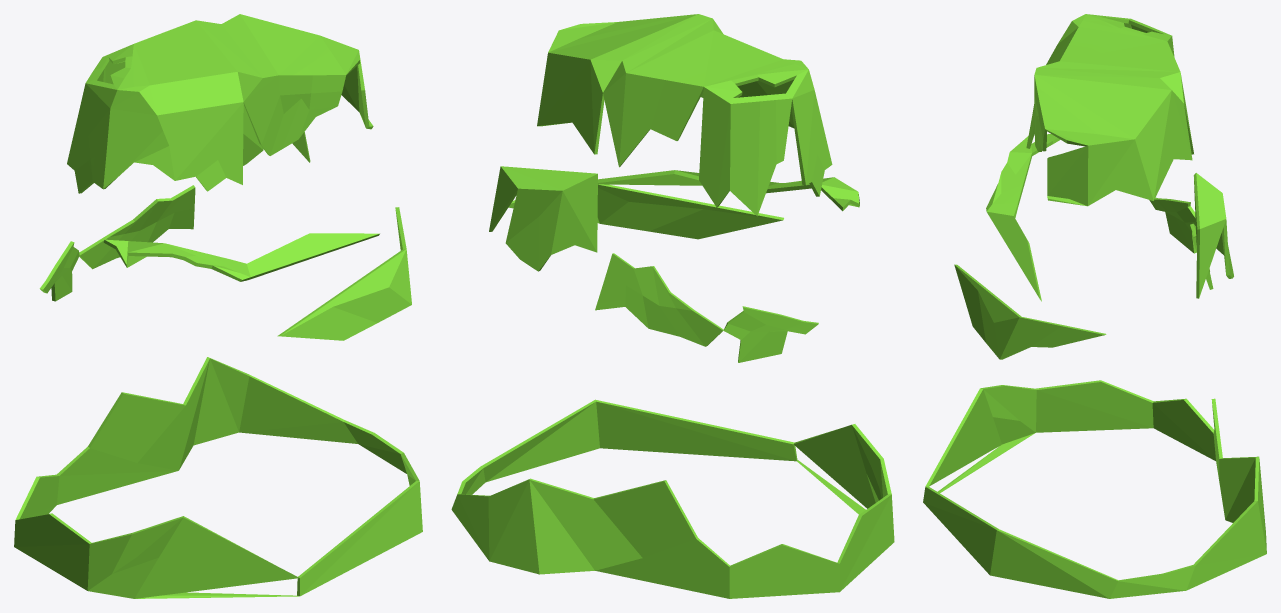
File: Moss_RockCliff-01.fbx
The picture shows the model from 3 angles, left to right: view 1: azimuth 30°, elevation 25°; view 2: azimuth 150°, elevation 25°; view 3: azimuth 270°, elevation 25°; orthographic projection. The views are drawn at different scales.
Parts seen in each view (by area): view 1: Moss_Green_RockCliff-01; view 2: Moss_Green_RockCliff-01; view 3: Moss_Green_RockCliff-01.
Boxes of the visible parts, left/top/right/bottom form: Moss_Green_RockCliff-01: left=14, top=14, right=422, bottom=598; Moss_Green_RockCliff-01: left=451, top=14, right=894, bottom=598; Moss_Green_RockCliff-01: left=923, top=14, right=1266, bottom=598.
Size of the model in its own units: 1067 by 1289 by 898.
